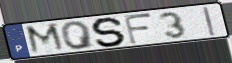3: (159, 10, 189, 39)
F: (122, 12, 154, 46)
I: (202, 6, 218, 37)
M: (23, 22, 68, 56)
Q: (59, 19, 97, 51)
S: (90, 16, 128, 48)
